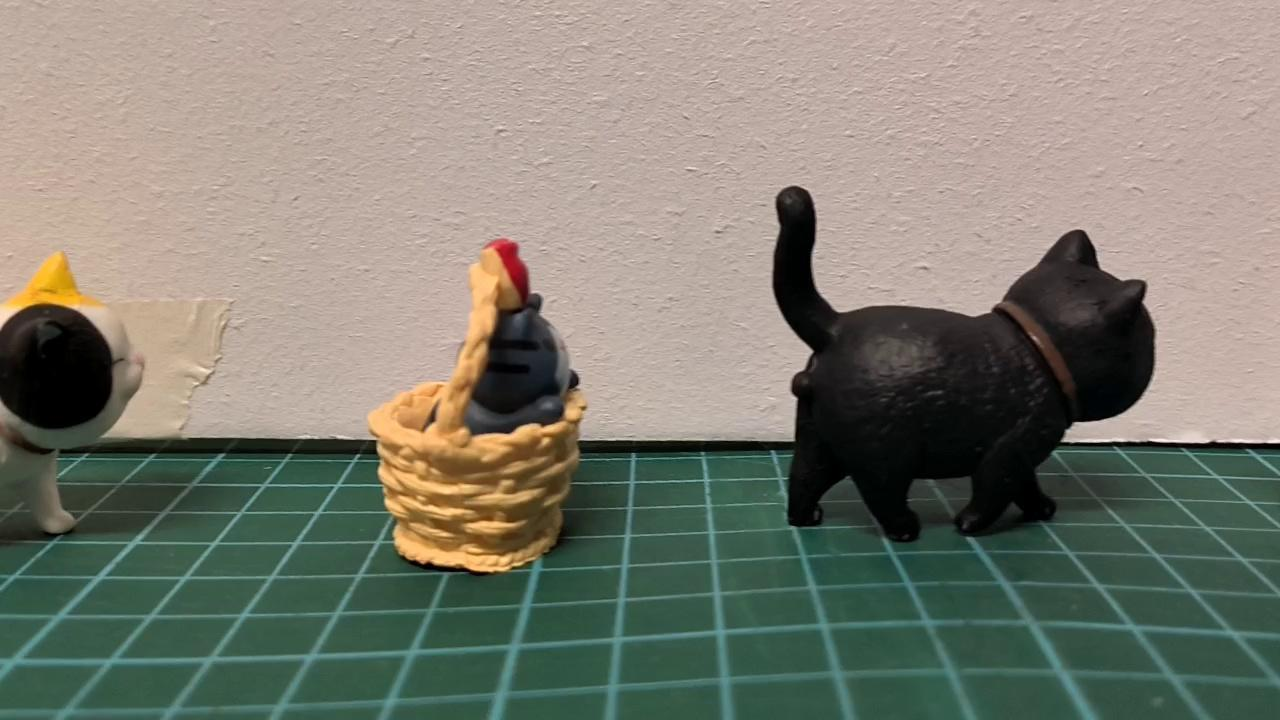pet: (773, 180, 1162, 549), (422, 290, 590, 436)
